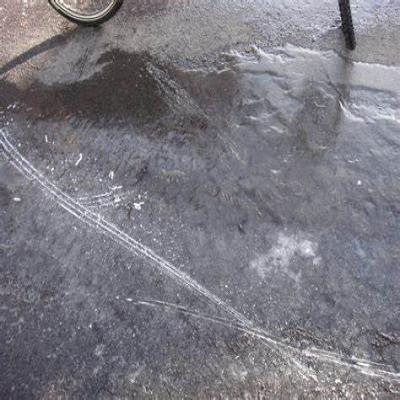iced-road: (0, 45, 400, 369), (0, 162, 394, 399)
